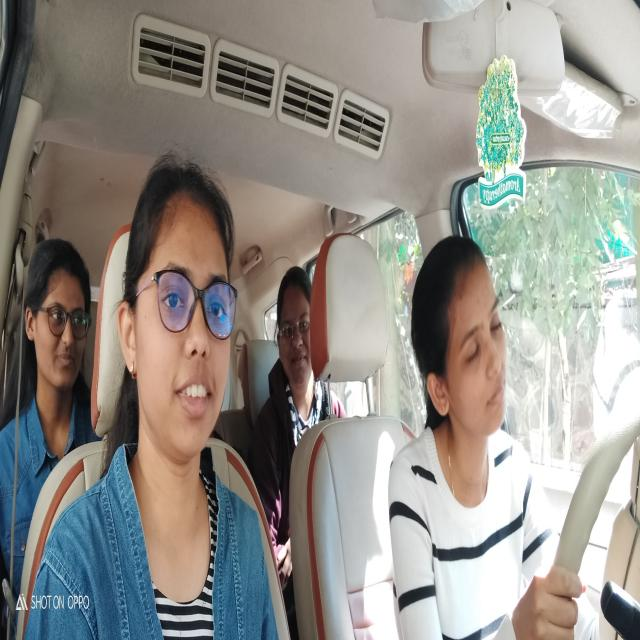drowsy: (405, 225, 516, 475)
person: (112, 126, 240, 492), (17, 191, 95, 428), (268, 255, 323, 398)
